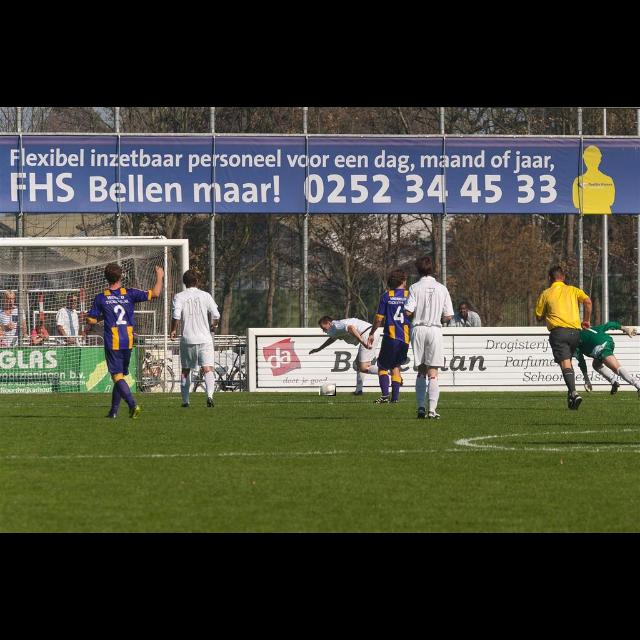Football: (320, 382, 336, 396)
